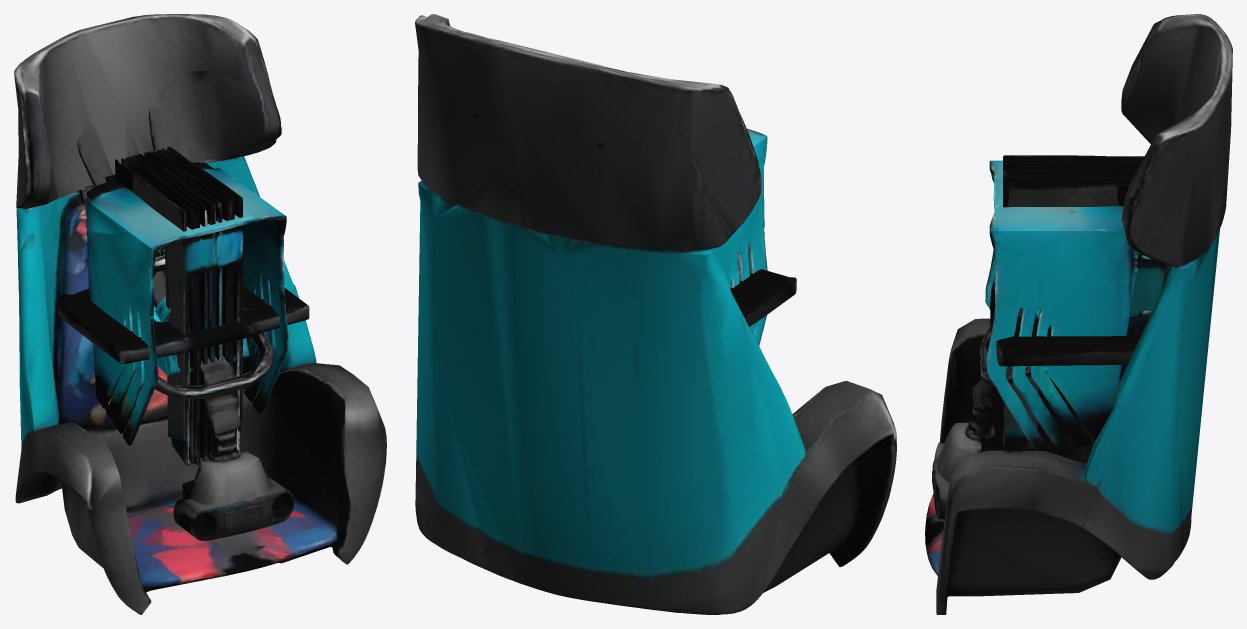
3 views of the same model, side by side, from view 1: azimuth 30°, elevation 25°; view 2: azimuth 150°, elevation 25°; view 3: azimuth 270°, elevation 25° (orthographic). The views are drawn at different scales.
Parts seen in each view (by area): view 1: root.0, root.3, root.4, root.1, root.2, root.8, root.7, root.5; view 2: root.0, root.3, root.8; view 3: root.0, root.3, root.2, root.8, root.1, root.4, root.7.
Boxes of the visible parts, x1,y1,x2,y2 form: root.0: (14, 14, 386, 614); root.3: (86, 162, 288, 445); root.4: (77, 108, 294, 540); root.1: (123, 146, 242, 463); root.2: (115, 149, 242, 465); root.8: (57, 286, 309, 363); root.7: (153, 251, 273, 398); root.5: (153, 296, 248, 375); root.0: (415, 14, 896, 614); root.3: (711, 128, 767, 346); root.8: (730, 269, 796, 326); root.0: (925, 14, 1232, 614); root.3: (985, 160, 1132, 454); root.2: (1003, 156, 1144, 445); root.8: (990, 253, 1146, 366); root.1: (1003, 155, 1143, 451); root.4: (932, 147, 1224, 519); root.7: (979, 255, 1165, 385).
Bounding box in the file's own units: 18098 × 27061 × 15003.
1 material, 1 textured.
